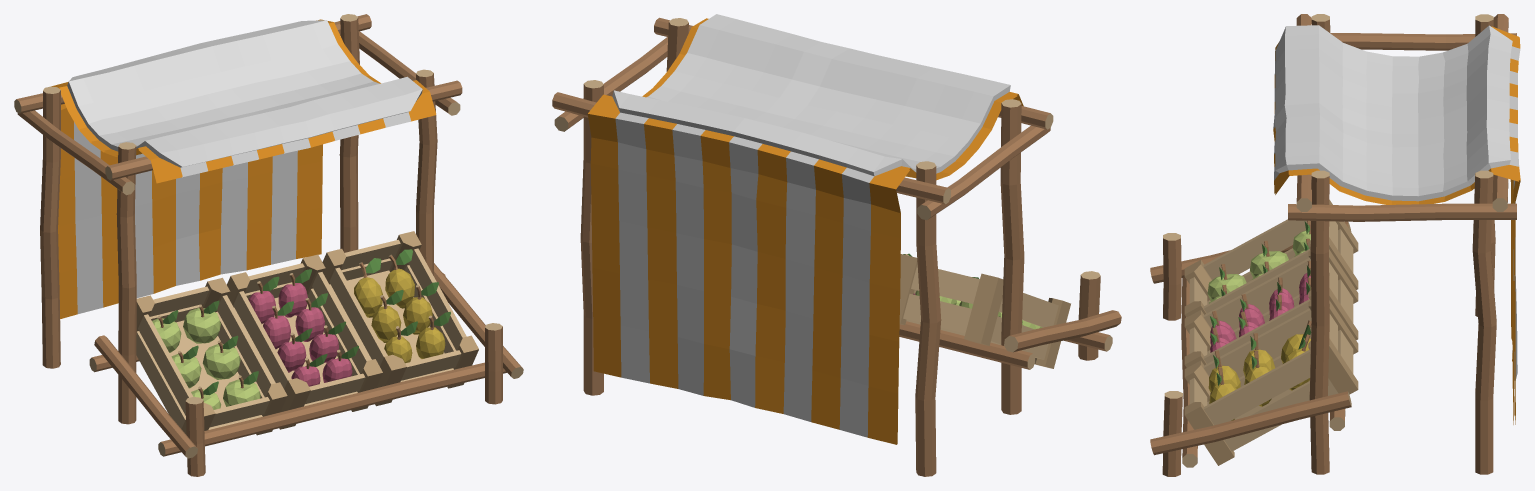
Rendered from Stall10.fbx.
The picture shows the model from 3 angles, left to right: view 1: azimuth 30°, elevation 25°; view 2: azimuth 150°, elevation 25°; view 3: azimuth 270°, elevation 25°; orthographic projection. The views are drawn at different scales.
Parts seen in each view (by area): view 1: Stall10; view 2: Stall10; view 3: Stall10.
Part boxes in pixels (x1,y1,x2,y2): Stall10: (14,14,523,476); Stall10: (552,14,1121,476); Stall10: (1150,14,1520,476).
Bounding box in the file's own units: 4 × 3.07 × 3.4.
